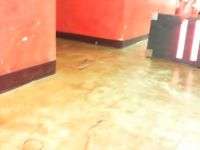switch: (176, 19, 189, 59), (189, 19, 199, 62)
